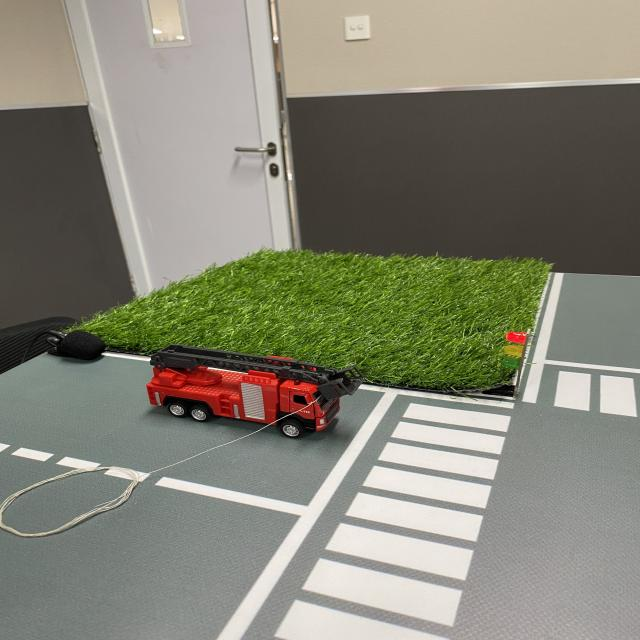Fire Truck: (140, 336, 370, 446)
